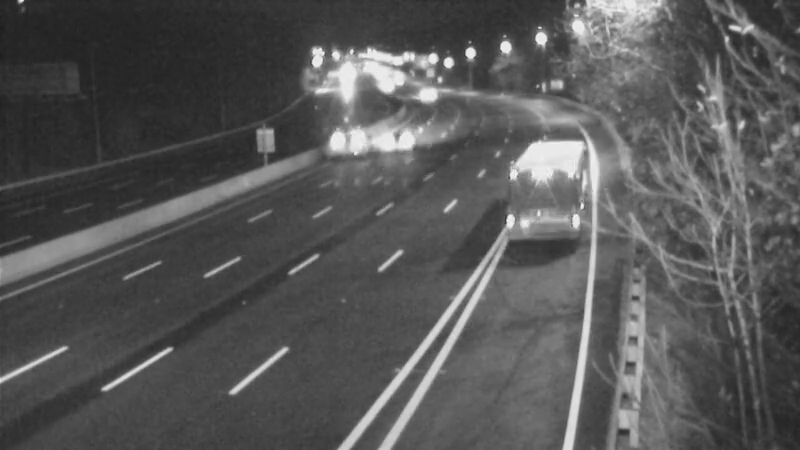vehicle: (508, 137, 588, 217), (400, 70, 450, 120), (369, 113, 419, 163), (319, 114, 369, 164)
